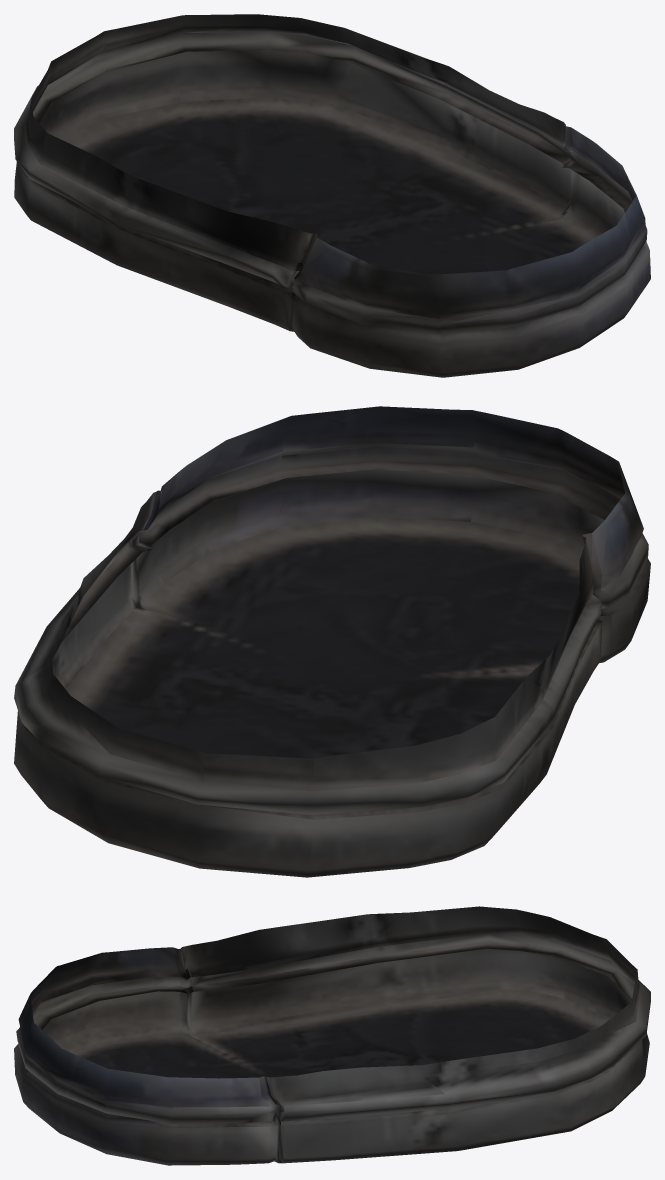
Rendered from LeftFoot.glb.
3 views of the same model, one above another, from view 1: azimuth 30°, elevation 25°; view 2: azimuth 150°, elevation 25°; view 3: azimuth 270°, elevation 25° (orthographic). The views are drawn at different scales.
Visible parts, largest first — view 1: LeftFoot; view 2: LeftFoot; view 3: LeftFoot.
Boxes of the visible parts, x1=… form: LeftFoot: x1=14, y1=14, x2=650, y2=377; LeftFoot: x1=14, y1=406, x2=650, y2=877; LeftFoot: x1=14, y1=906, x2=650, y2=1165.
Size of the model in its own units: 1.27 by 0.2927 by 1.86.
1 material, 1 textured.
